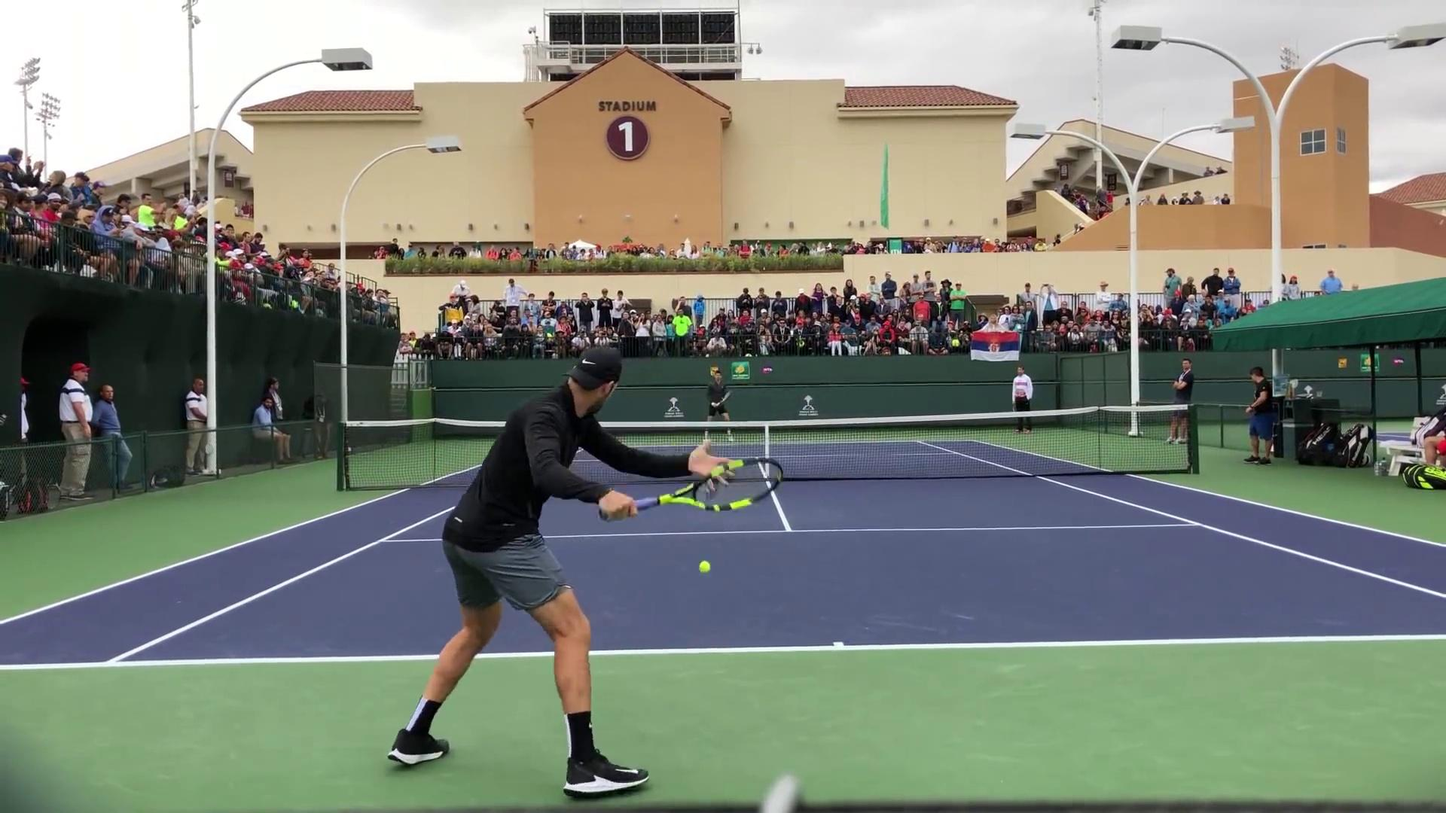ball: (699, 559, 712, 573)
